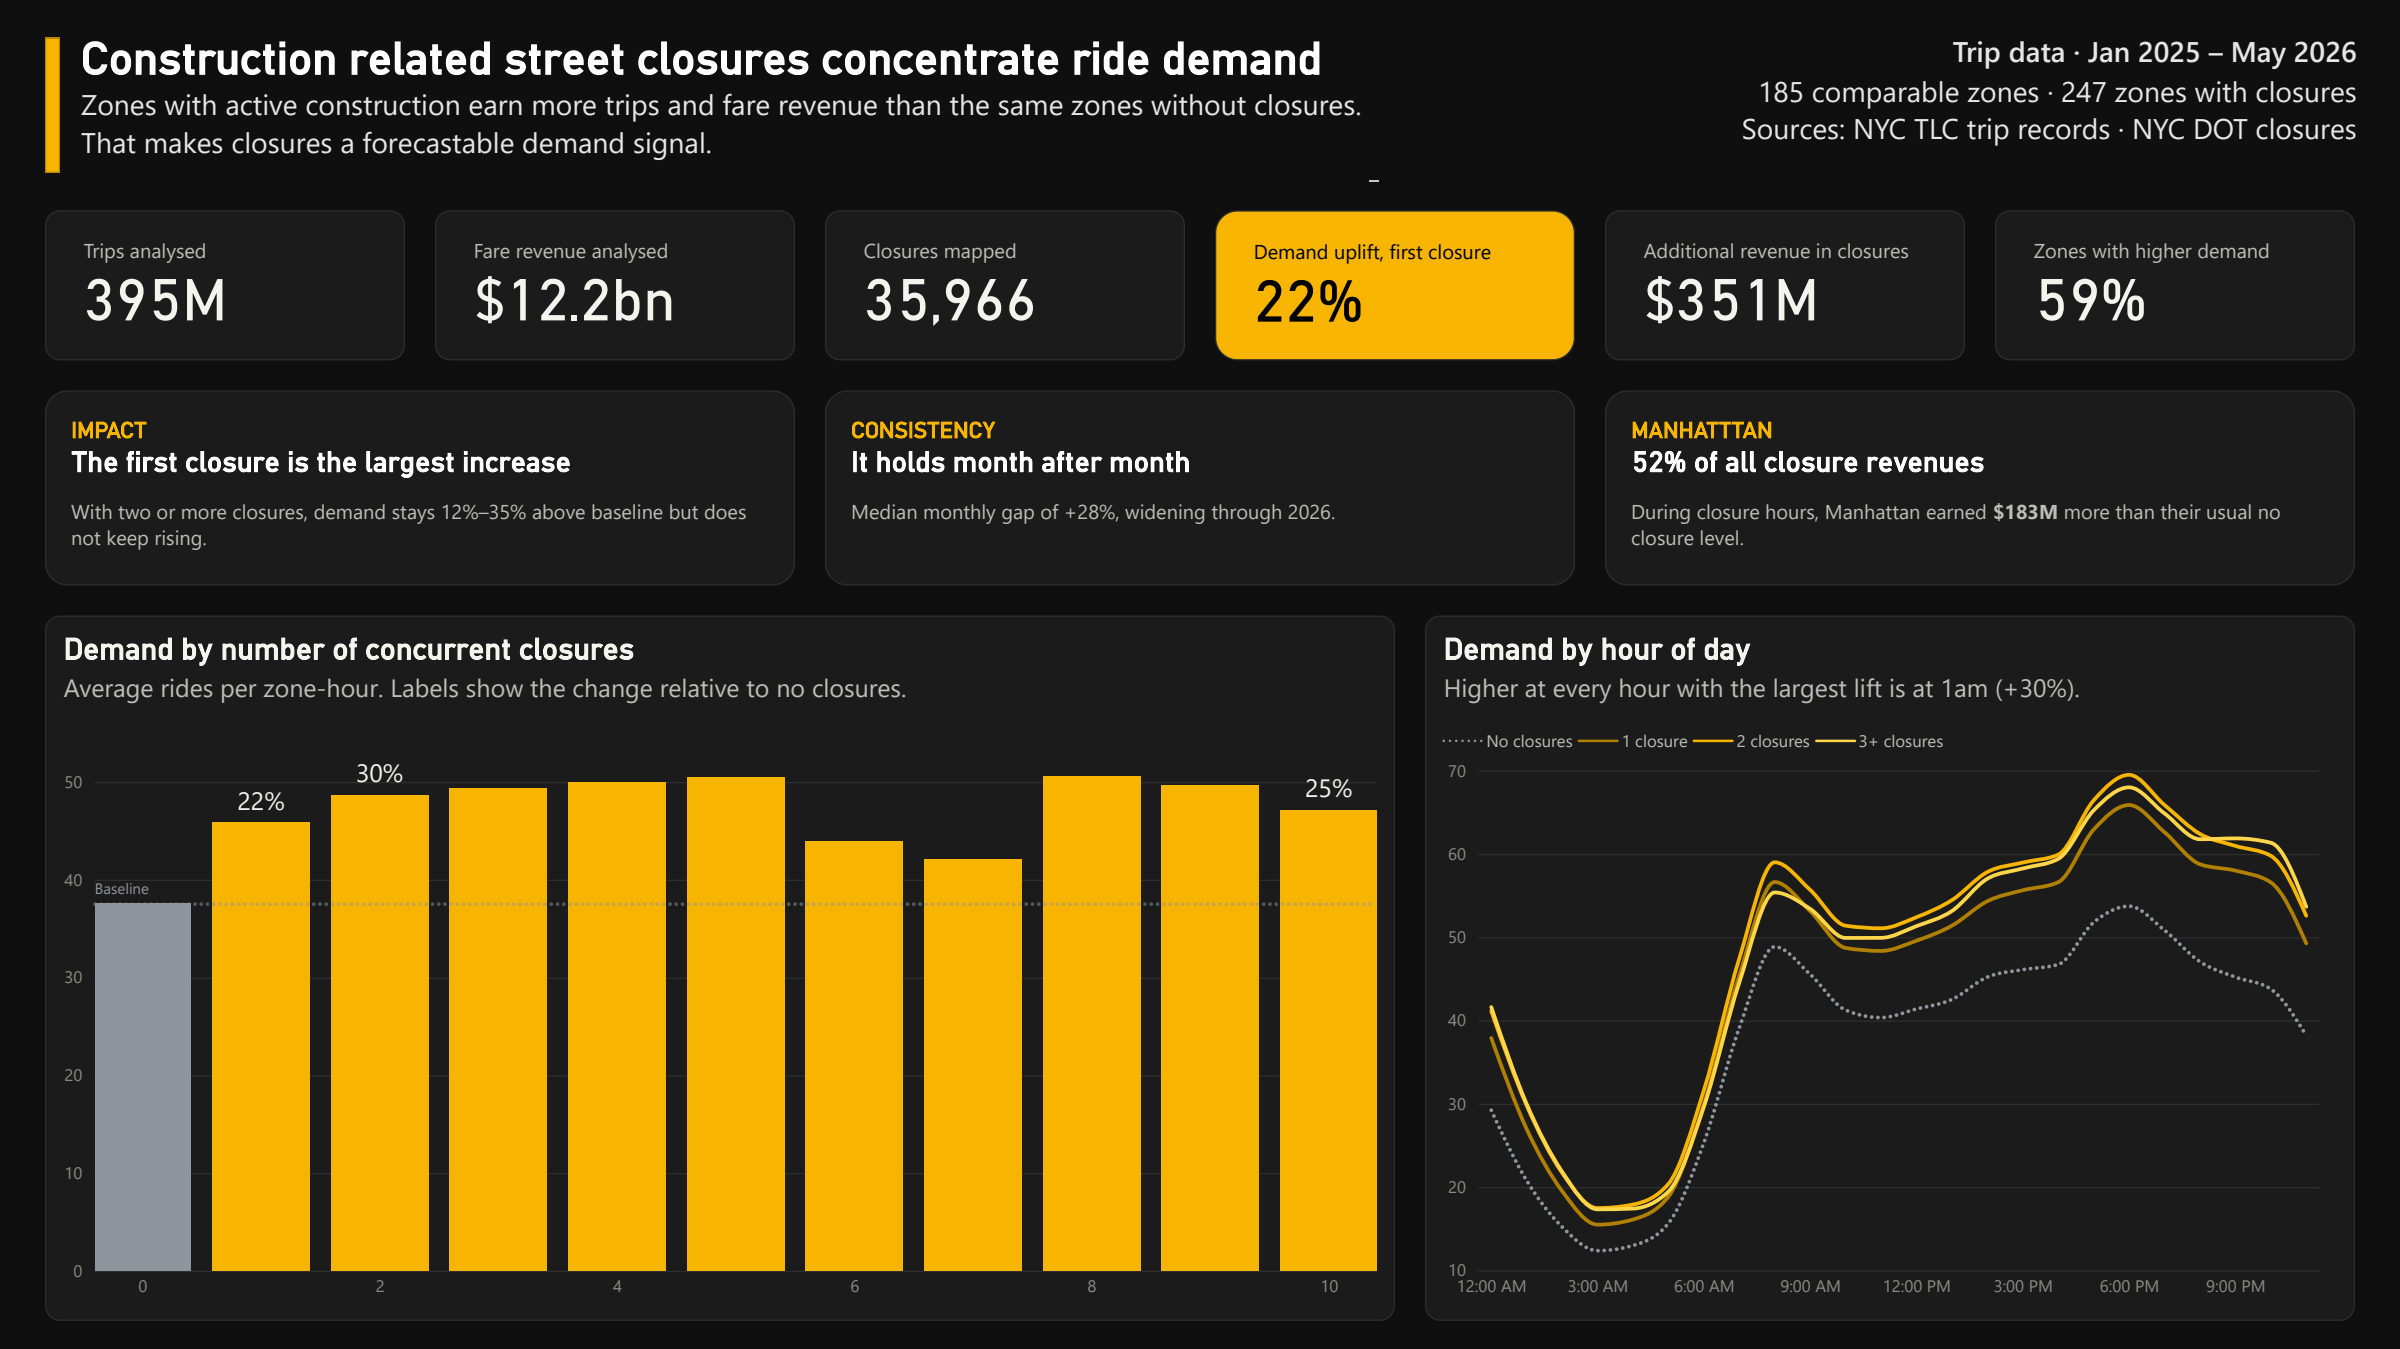

What the dashboard file says about the page in this screenshot:
{"tool":"powerbi","page":{"name":"Page 1","canvas":[1920,1080],"ordinal":0},"visuals":[{"type":"textbox","title":"Construction related street closures concentrate ride demand ","box":[65,25,1037.5,120],"z":0},{"type":"shape","box":[36,30,12,108],"z":1000},{"type":"textbox","title":"Trip data · Jan 2025 – May 2026 ","box":[1387.5,25,497.5,120],"z":2000},{"type":"cardVisual","fields":{"Data":["Sum(01_kpi_cards.Trips analysed)"]},"box":[36,168,288,120],"z":3000},{"type":"cardVisual","fields":{"Data":["Sum(01_kpi_cards.Fare revenue analysed)"]},"box":[348,168,288,120],"z":4000},{"type":"cardVisual","fields":{"Data":["01_kpi_cards.Closures mapped (full)"]},"box":[660,168,288,120],"z":5000},{"type":"cardVisual","fields":{"Data":["Sum(01_kpi_cards.Demand uplift, first closure)"]},"box":[972,167.5,288,120],"z":6000},{"type":"cardVisual","fields":{"Data":["Sum(01_kpi_cards.Revenue above expected)"]},"box":[1284,168,288,120],"z":7000},{"type":"cardVisual","fields":{"Data":["Sum(01_kpi_cards.Zones with higher demand)"]},"box":[1596,168,288,120],"z":8000},{"type":"textbox","title":"IMPACT","box":[36,312,600,156],"z":9000},{"type":"textbox","title":"CONSISTENCY","box":[660,312,600,156],"z":10000},{"type":"textbox","title":"MANHATTTAN","box":[1284,312,600,156],"z":11000},{"type":"clusteredColumnChart","title":"Demand by number of concurrent closures","fields":{"Category":["02_demand_by_closures.Concurrent closures"],"Y":["Sum(02_demand_by_closures.Avg rides per zone-hour)"]},"box":[36,492,1080,564],"z":12000},{"type":"lineChart","title":"Demand by hour of day","fields":{"Category":["03_hourly_profile.Hour"],"Series":["03_hourly_profile.Series"],"Y":["Sum(03_hourly_profile.Avg rides per zone-hour)"]},"box":[1140,492,744,564],"z":13000}]}

Visuals, with their boxes in screenshot pixels (x1, y1, x2, y2), scaled from the page's 1920x1080 canvas onto the 2400x1349 screenshot:
"Construction related street closures concentrate ride demand " textbox: left=81, top=31, right=1378, bottom=181
shape: left=45, top=37, right=60, bottom=172
"Trip data · Jan 2025 – May 2026 " textbox: left=1734, top=31, right=2356, bottom=181
cardVisual - Sum(01_kpi_cards.Trips analysed): left=45, top=210, right=405, bottom=360
cardVisual - Sum(01_kpi_cards.Fare revenue analysed): left=435, top=210, right=795, bottom=360
cardVisual - 01_kpi_cards.Closures mapped (full): left=825, top=210, right=1185, bottom=360
cardVisual - Sum(01_kpi_cards.Demand uplift, first closure): left=1215, top=209, right=1575, bottom=359
cardVisual - Sum(01_kpi_cards.Revenue above expected): left=1605, top=210, right=1965, bottom=360
cardVisual - Sum(01_kpi_cards.Zones with higher demand): left=1995, top=210, right=2355, bottom=360
"IMPACT" textbox: left=45, top=390, right=795, bottom=585
"CONSISTENCY" textbox: left=825, top=390, right=1575, bottom=585
"MANHATTTAN" textbox: left=1605, top=390, right=2355, bottom=585
"Demand by number of concurrent closures" clusteredColumnChart: left=45, top=615, right=1395, bottom=1319
"Demand by hour of day" lineChart: left=1425, top=615, right=2355, bottom=1319
